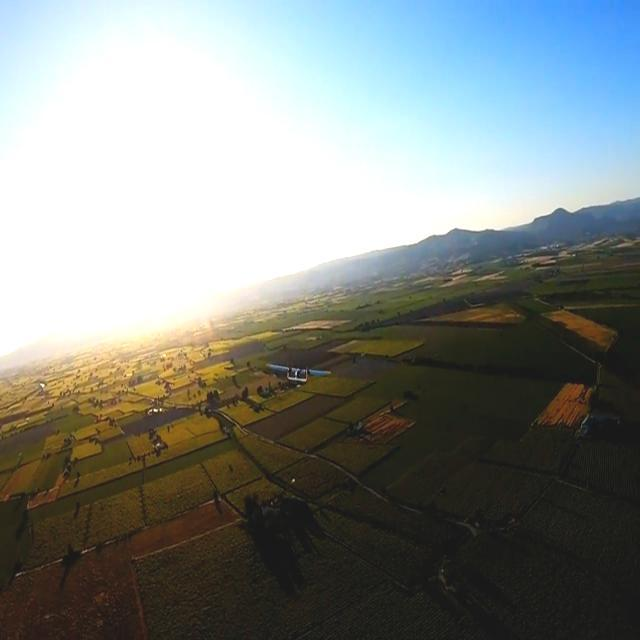iha: (297, 359, 300, 388)
